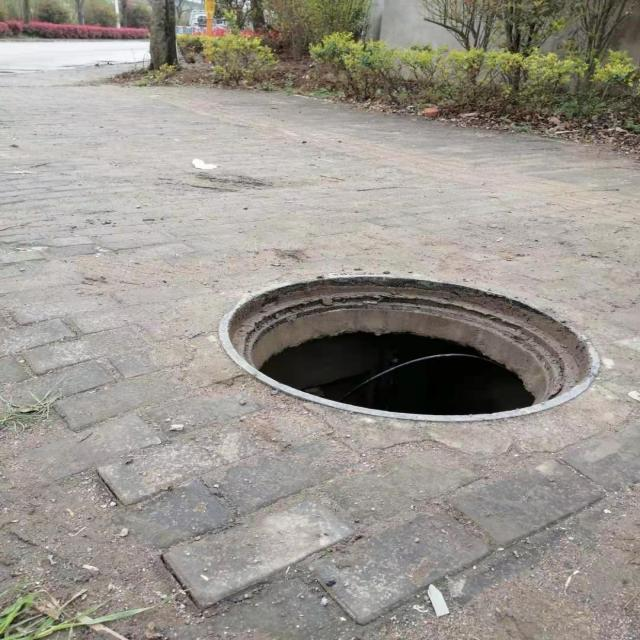Uncovered: (217, 272, 598, 419)
